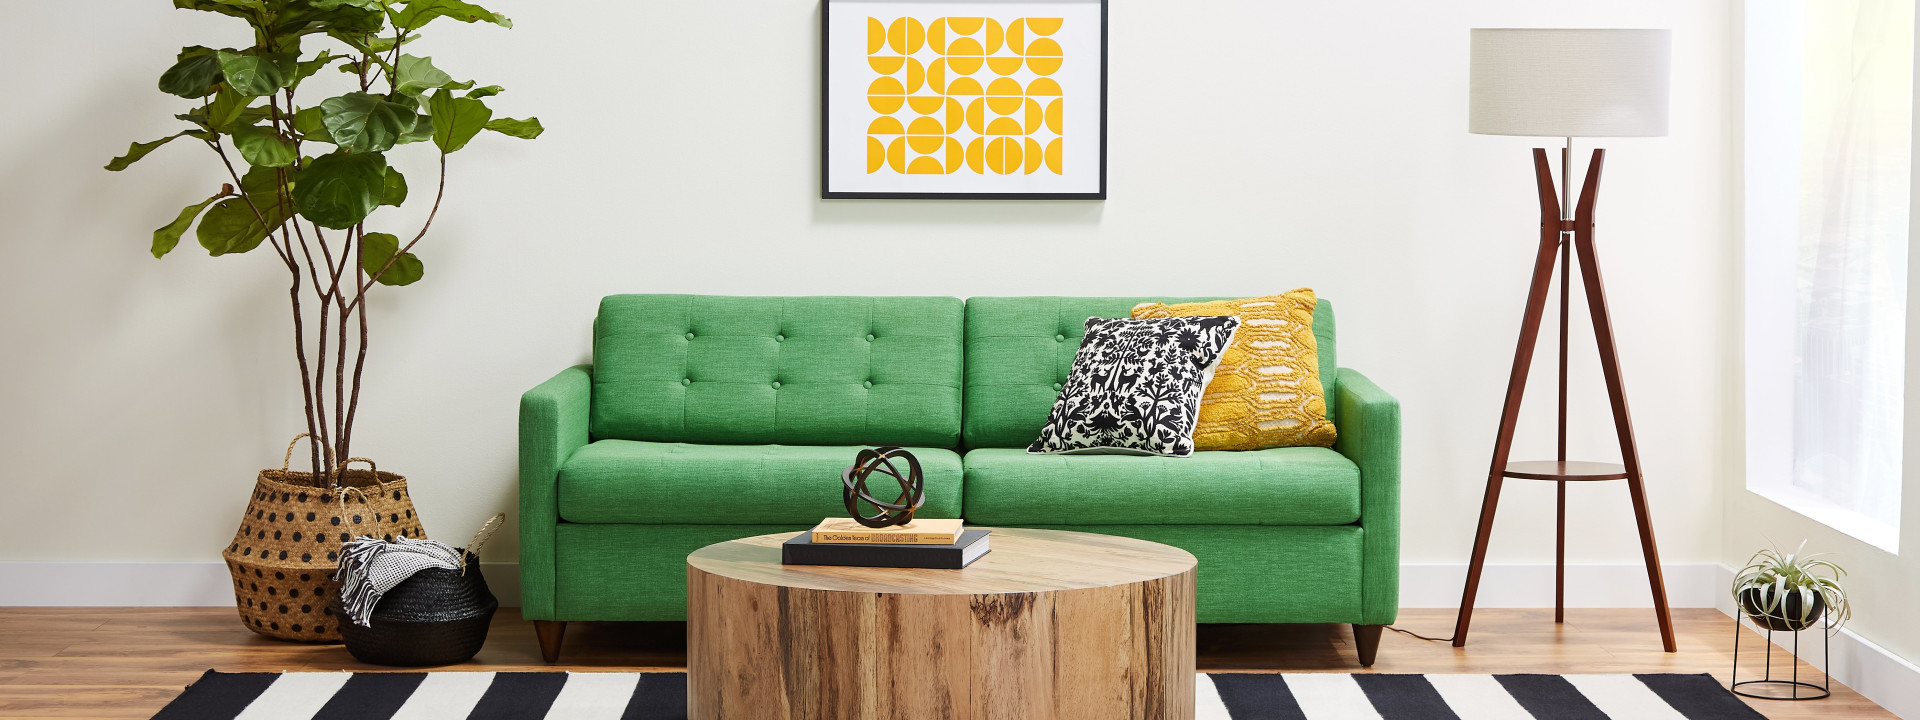coklat: (684, 527, 1198, 720), (224, 467, 347, 637)
hijau: (522, 287, 1064, 530)
hitam: (340, 547, 493, 658)
kuning: (1153, 309, 1340, 440)
puith: (1464, 23, 1686, 133)
